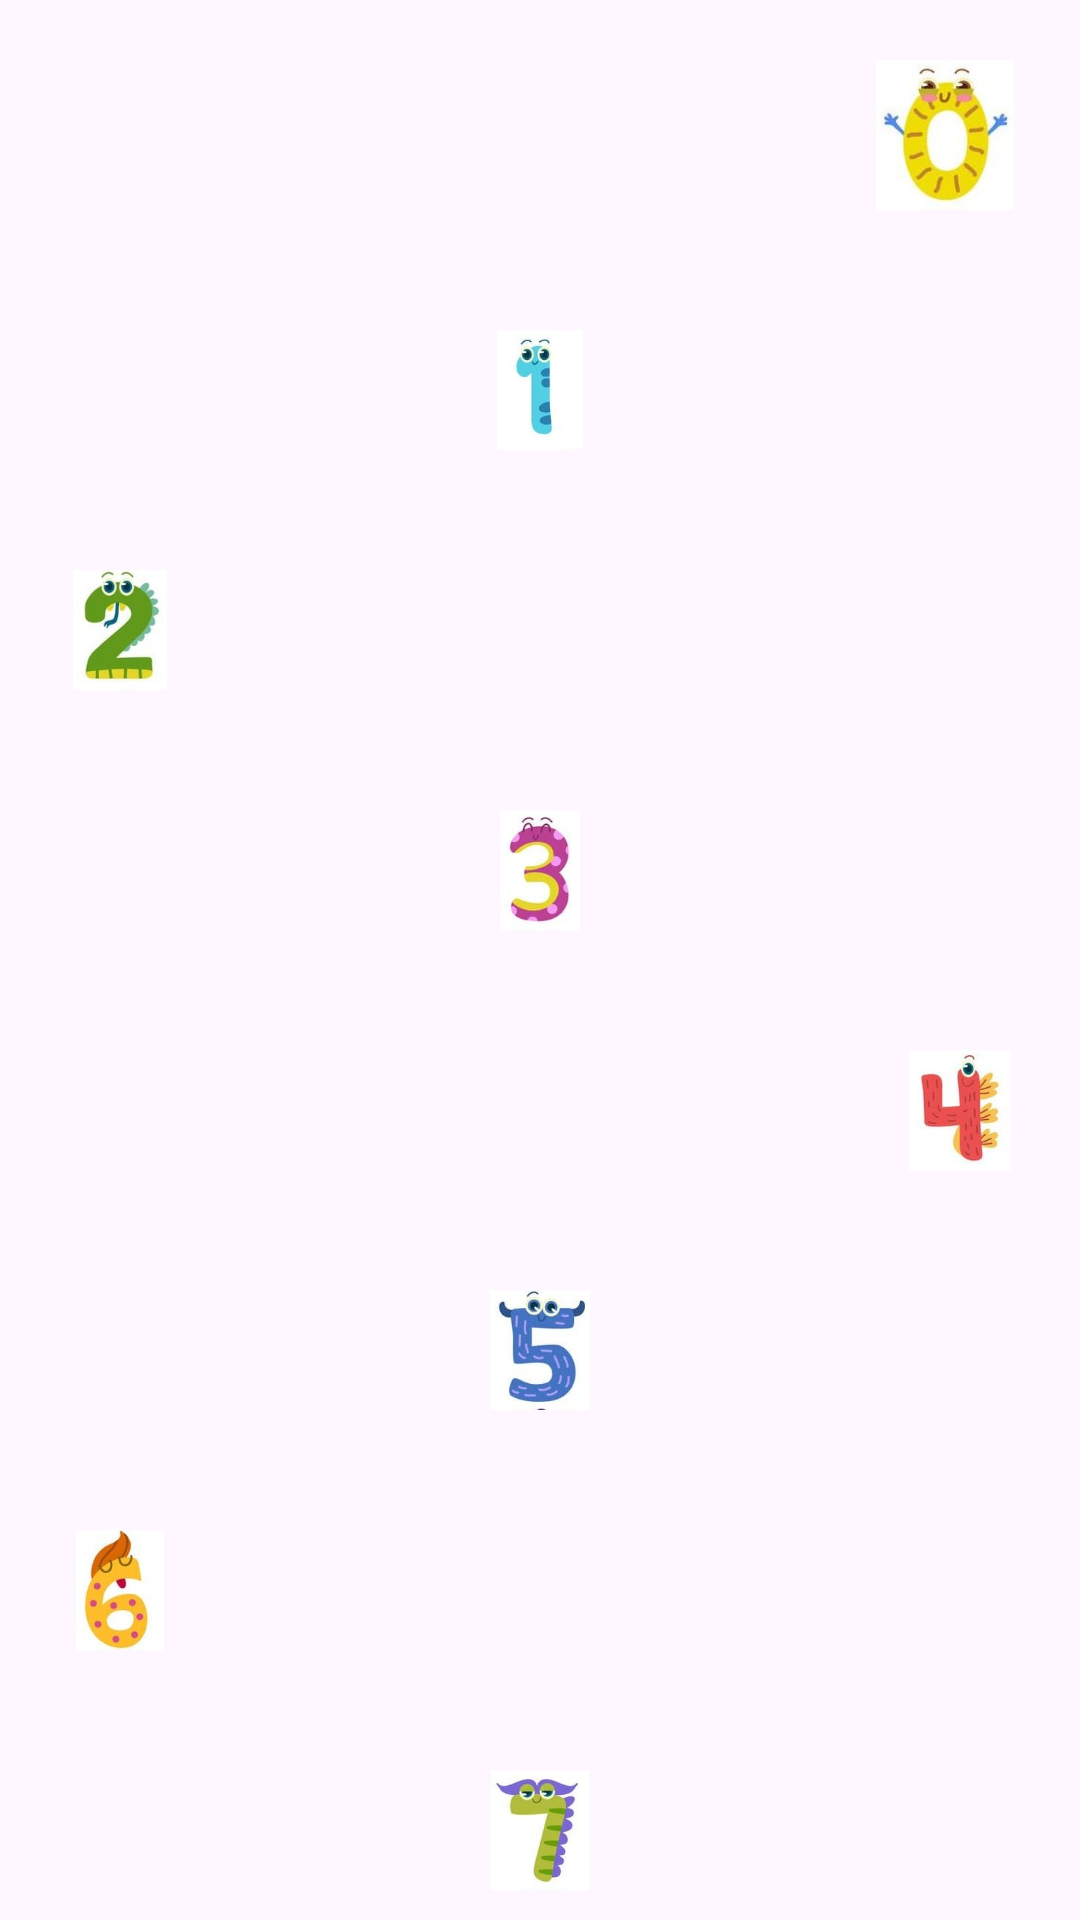

Icon bounding boxes for this 1080w x 1920h phone screenshot, format [x1=x1, y1=y1, x2=x2, y2=y2]:
cero: [x1=884, y1=68, x2=1008, y2=202]
cinco: [x1=490, y1=1290, x2=590, y2=1410]
cuatro: [x1=921, y1=1055, x2=1000, y2=1161]
dos: [x1=84, y1=570, x2=159, y2=681]
seis: [x1=84, y1=1530, x2=149, y2=1649]
siete: [x1=496, y1=1779, x2=578, y2=1883]
tres: [x1=509, y1=817, x2=569, y2=922]
uno: [x1=515, y1=339, x2=553, y2=435]
